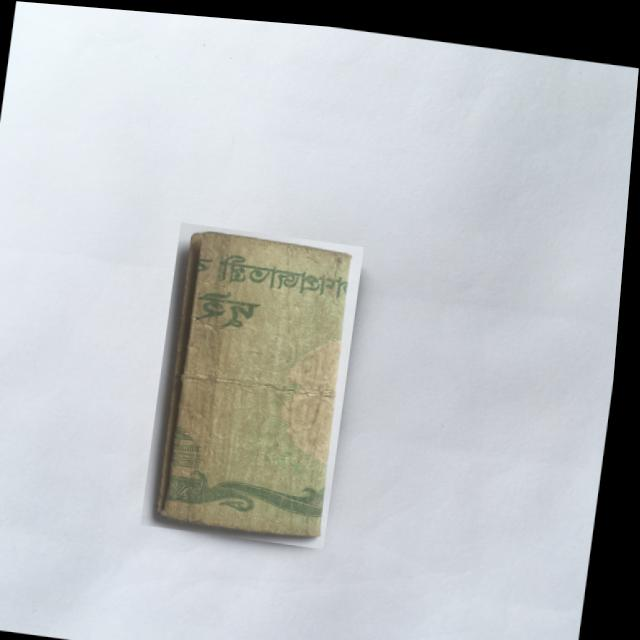Taka: (149, 219, 369, 544)
